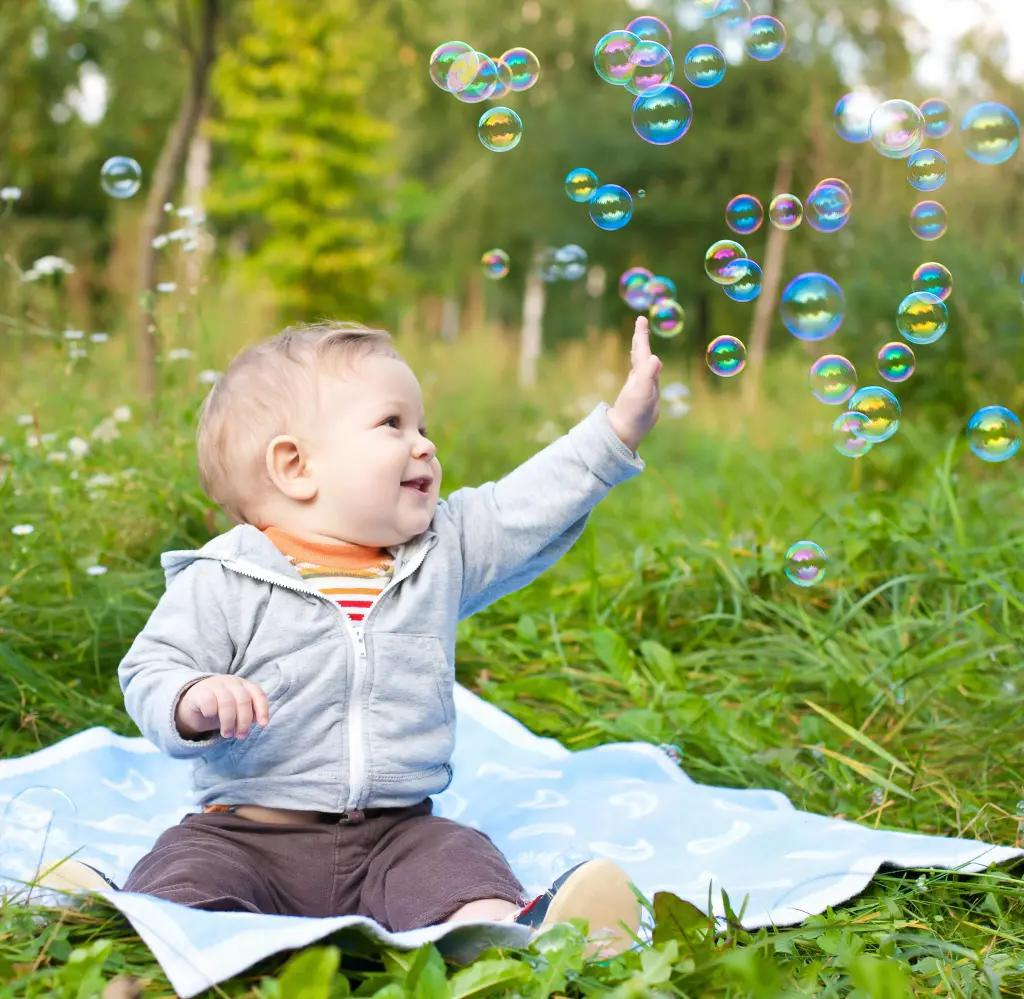child: (109, 297, 674, 937)
